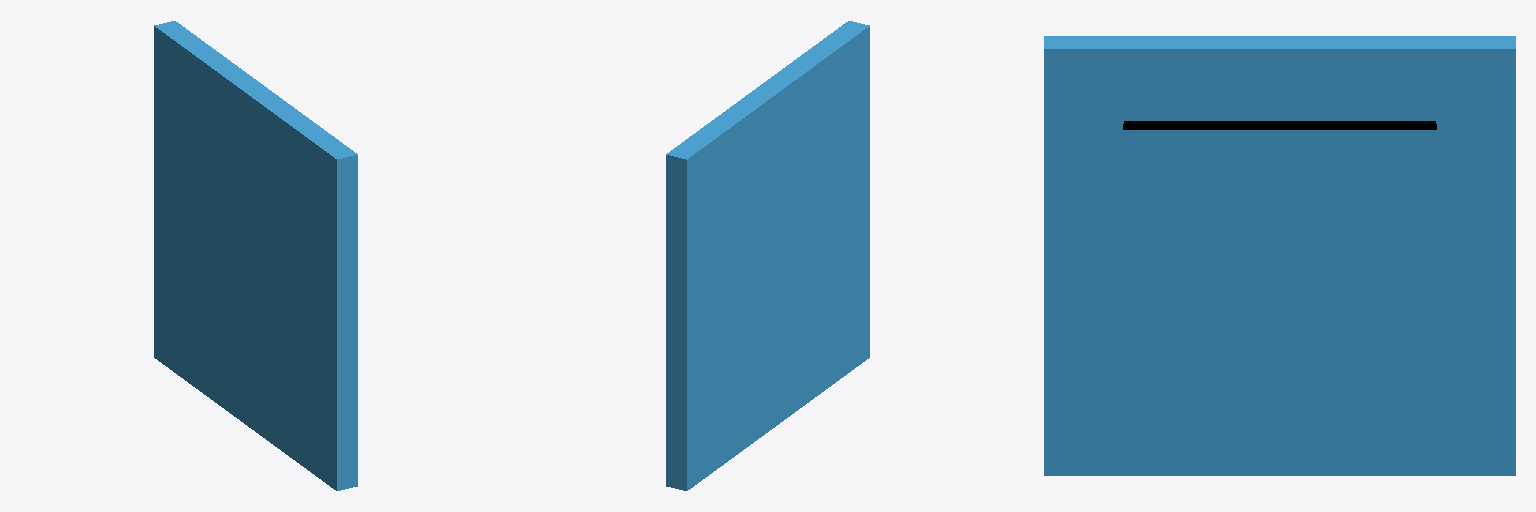
The robot description file, URDF, robot "aruco_6x6_4":
<robot name="aruco_6x6_4">
    <link name="aruco_6x6_4"/>
    <joint name="base" type="fixed">
        <parent link="aruco_6x6_4"/>
        <child link="white_board_6x6_4"/>
        <origin xyz="0.0 0.0 0.0" rpy="0.0 0.0 0.0"/>
    </joint>
    <link name="white_board_6x6_4">
        <visual>
            <origin rpy="0 0 0" xyz="0 0 0"/>
            <geometry>
                <mesh filename="package://robotica_movel/src/aruco/aruco_6x6_4.dae"/>
            </geometry>
        </visual>
        <visual>
            <origin xyz="-0.005 0.0 0.0" rpy="0.0 -1.5707 0.0"/>
            <geometry>
                <box size="0.15 0.15 0.01"/>
            </geometry>
        </visual>
        <collision>
            <origin rpy="0 0 0" xyz="0 0 0"/>
            <geometry>
                <mesh filename="package://robotica_movel/src/aruco/aruco_6x6_4.dae"/>
            </geometry>
        </collision>
        <inertial>
            <origin rpy="0 0 0" xyz="0.000000 0.000000 0.000000"/>
            <mass value="35.336455"/>
            <inertia ixx="1.849155" ixy="-0.000354" ixz="-0.154188" iyy="1.662671" iyz="0.003292" izz="0.802239"/>
        </inertial>
    </link>
    <gazebo>
        <static>true</static>
    </gazebo>
</robot>

--- Facts derived from the render (not from the file) ---
Views: 3 orthographic renders of the robot side by side, from view 1: azimuth 30°, elevation 25°; view 2: azimuth 150°, elevation 25°; view 3: azimuth 270°, elevation 25°.
Model aruco_6x6_4 with 2 links and 1 joints (1 fixed), rooted at aruco_6x6_4, posed all joints at 0.
Links seen in each view (by area): view 1: white_board_6x6_4; view 2: white_board_6x6_4; view 3: white_board_6x6_4.
Boxes of the visible links, bbox=[...] form: white_board_6x6_4: bbox=[154, 21, 357, 490]; white_board_6x6_4: bbox=[666, 21, 869, 490]; white_board_6x6_4: bbox=[1044, 36, 1515, 475].
Bounding box of the posed robot: 0.0175 × 0.15 × 0.15 m (x, y, z).
Meshes: 1 distinct files referenced, 1 mesh visuals loaded (1 Collada DAE).